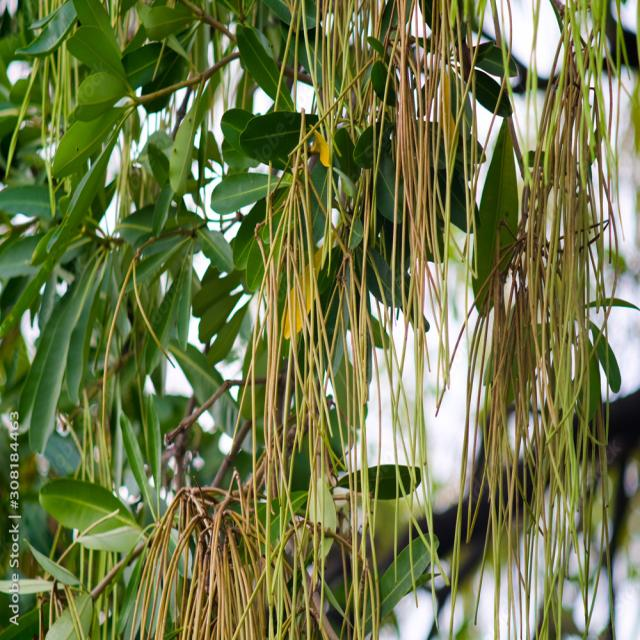Indian Pulai: (245, 29, 587, 640), (0, 270, 380, 562), (13, 54, 368, 357), (325, 418, 471, 610)
